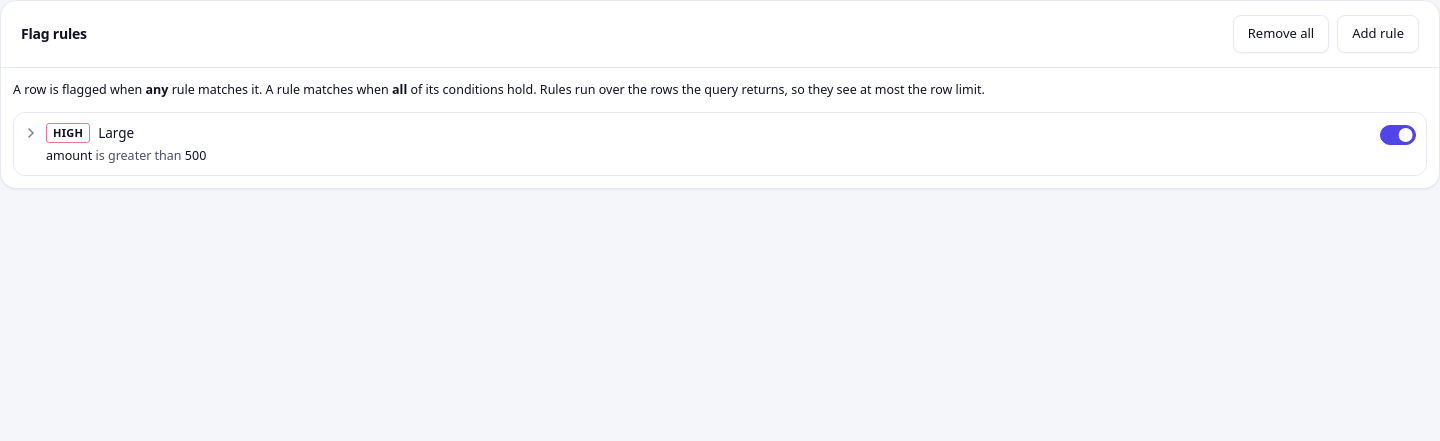
Test: list operators › shows no picker for a plain comparison
The image size is (1440, 441).
Click the button "high Large amount is greater than 500". click: (68, 133)
box: [24,123,1372,164]
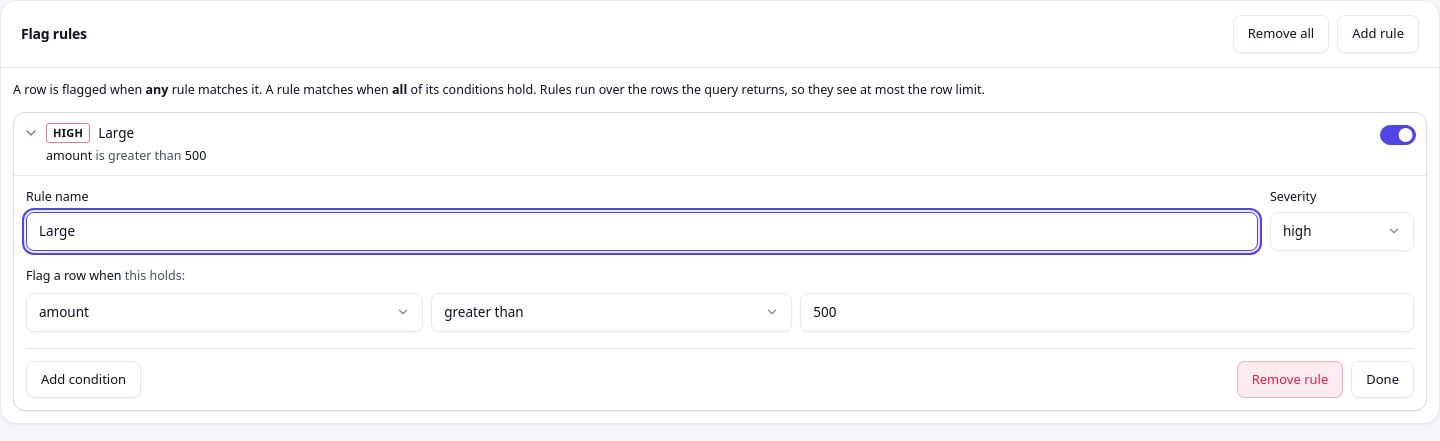
Expected: the field named "Value" is shown, [800,293,1414,332]
